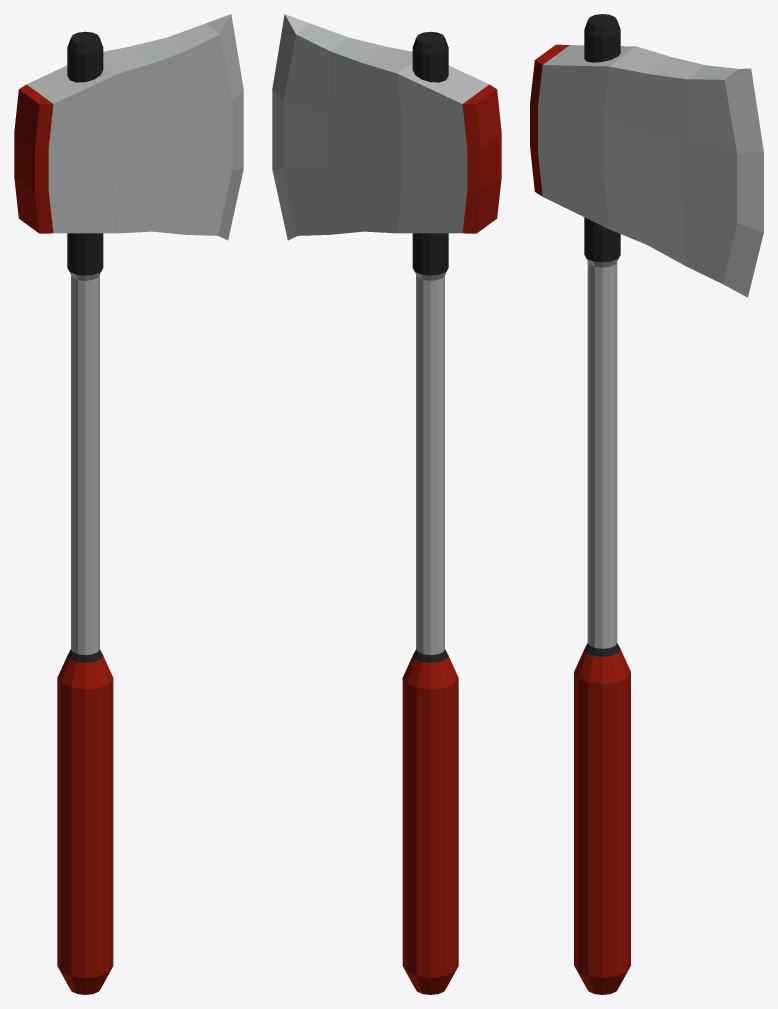
File: Axe.fbx
3 views of the same model, side by side, from view 1: azimuth 30°, elevation 25°; view 2: azimuth 150°, elevation 25°; view 3: azimuth 330°, elevation 25° (orthographic).
Parts seen in each view (by area): view 1: Cylinder.001; view 2: Cylinder.001; view 3: Cylinder.001.
Boxes of the visible parts, x1,y1,x2,y2 form: Cylinder.001: [14, 14, 243, 994]; Cylinder.001: [272, 14, 501, 994]; Cylinder.001: [530, 14, 763, 994].
Bounding box in the file's own units: 44.53 × 9.83 × 184.
